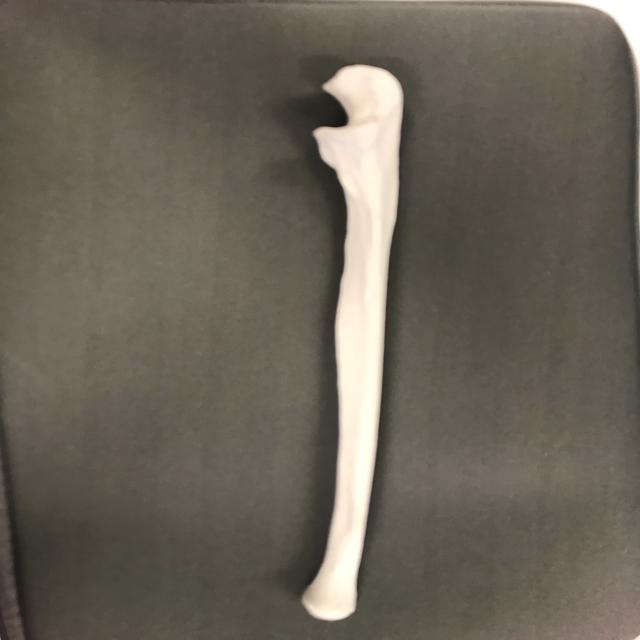bone: (288, 59, 413, 624)
